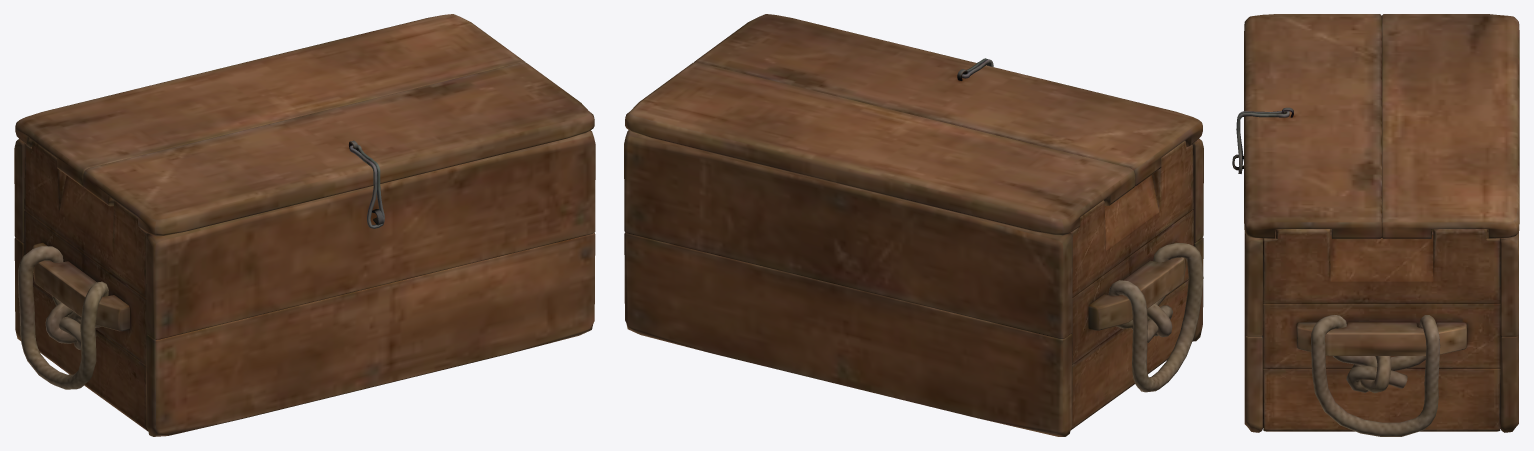
Rendered from wooden_crate_01.glb.
3 views of the same model, side by side, from view 1: azimuth 30°, elevation 25°; view 2: azimuth 150°, elevation 25°; view 3: azimuth 270°, elevation 25° (orthographic). The views are drawn at different scales.
Visible parts, largest first — view 1: wooden_crate_01_lid; view 2: wooden_crate_01_lid; view 3: wooden_crate_01_lid.
Part boxes in pixels (x1,y1,x2,y2): wooden_crate_01_lid: [14, 14, 595, 436]; wooden_crate_01_lid: [624, 14, 1203, 436]; wooden_crate_01_lid: [1232, 14, 1519, 436].
Size of the model in its own units: 0.8253 by 0.3496 by 0.4089.
1 material, 1 textured.
